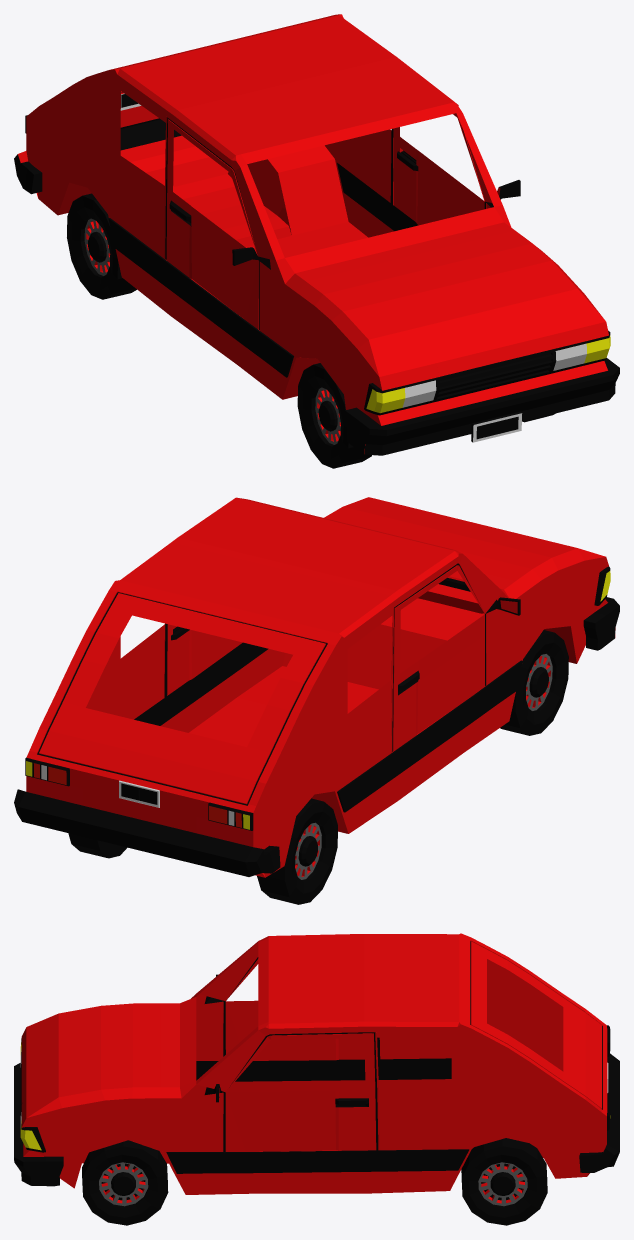
The model's file is mueve el toto.glb.
3 views of the same model, one above another, from view 1: azimuth 30°, elevation 25°; view 2: azimuth 150°, elevation 25°; view 3: azimuth 270°, elevation 25° (orthographic). The views are drawn at different scales.
Visible parts, largest first — view 1: armazon, accesorios, rueda trasera der, rueda delantera der; view 2: armazon, accesorios, rueda trasera der, rueda delantera der, rueda trasera izq; view 3: armazon, accesorios, rueda trasera izq, rueda delantera izq.
Part boxes in pixels (x1,y1,x2,y2): armazon: (26,14,608,425); accesorios: (14,92,619,455); rueda trasera der: (67,193,136,299); rueda delantera der: (297,363,371,468); armazon: (26,497,608,877); accesorios: (14,566,619,876); rueda trasera der: (257,798,337,904); rueda delantera der: (500,630,568,735); rueda trasera izq: (68,833,126,858); armazon: (21,933,607,1194); accesorios: (14,940,619,1186); rueda trasera izq: (461,1138,547,1225); rueda delantera izq: (82,1140,168,1225).
Bounding box in the file's own units: 2.23 × 1.84 × 4.96.
